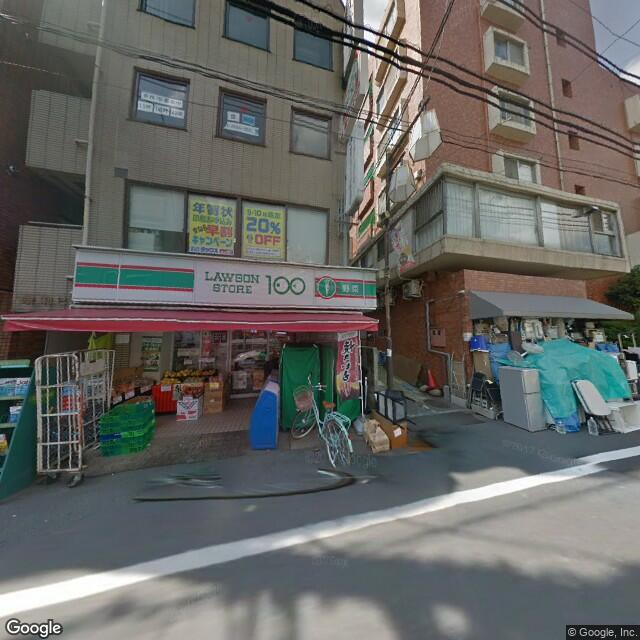lawson: (76, 247, 378, 319)
